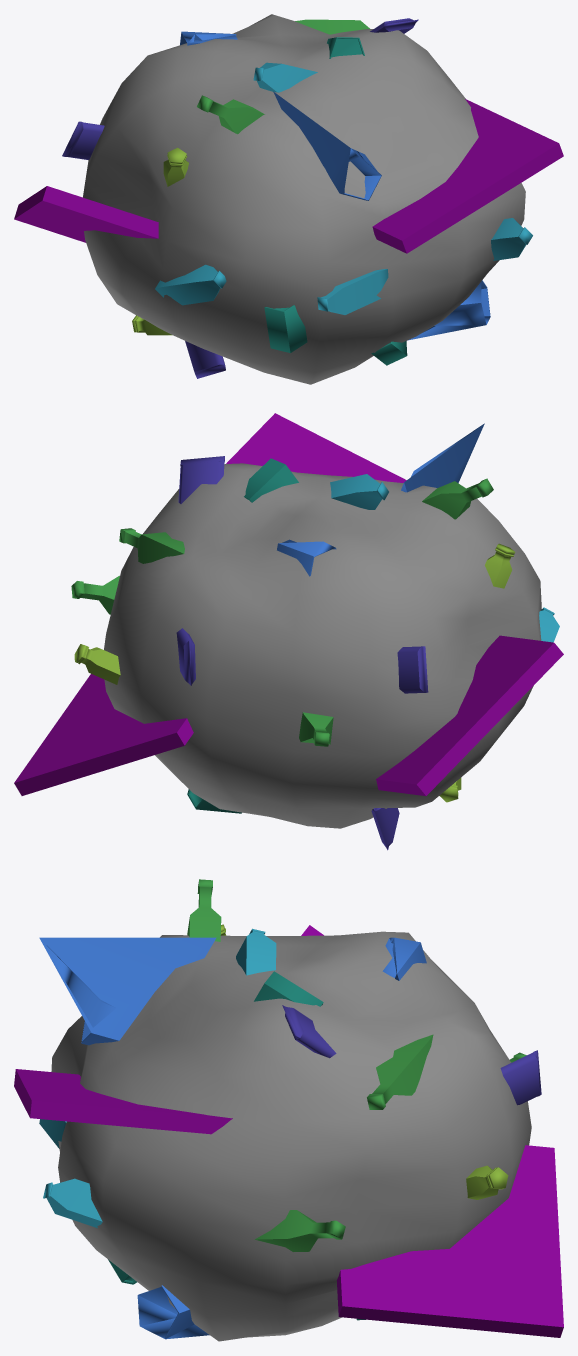
The model's file is Garbage_Lump.fbx.
3 views of the same model, one above another, from view 1: azimuth 30°, elevation 25°; view 2: azimuth 150°, elevation 25°; view 3: azimuth 270°, elevation 25° (orthographic). The views are drawn at different scales.
Parts seen in each view (by area): view 1: GarbageLump_LOD0; view 2: GarbageLump_LOD0; view 3: GarbageLump_LOD0.
Boxes of the visible parts, x1,y1,x2,y2 form: GarbageLump_LOD0: (14, 14, 563, 384); GarbageLump_LOD0: (14, 413, 563, 850); GarbageLump_LOD0: (14, 879, 563, 1341).
Bounding box in the file's own units: 342 × 234 × 310.
